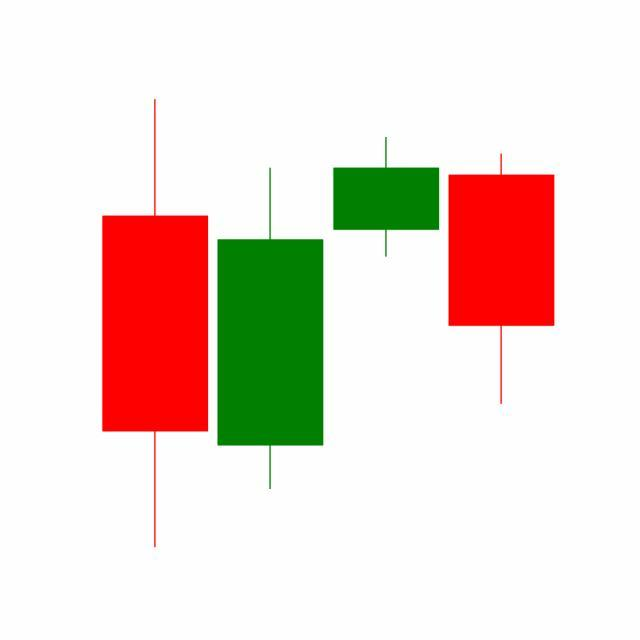Evening Star: (211, 134, 555, 495)
